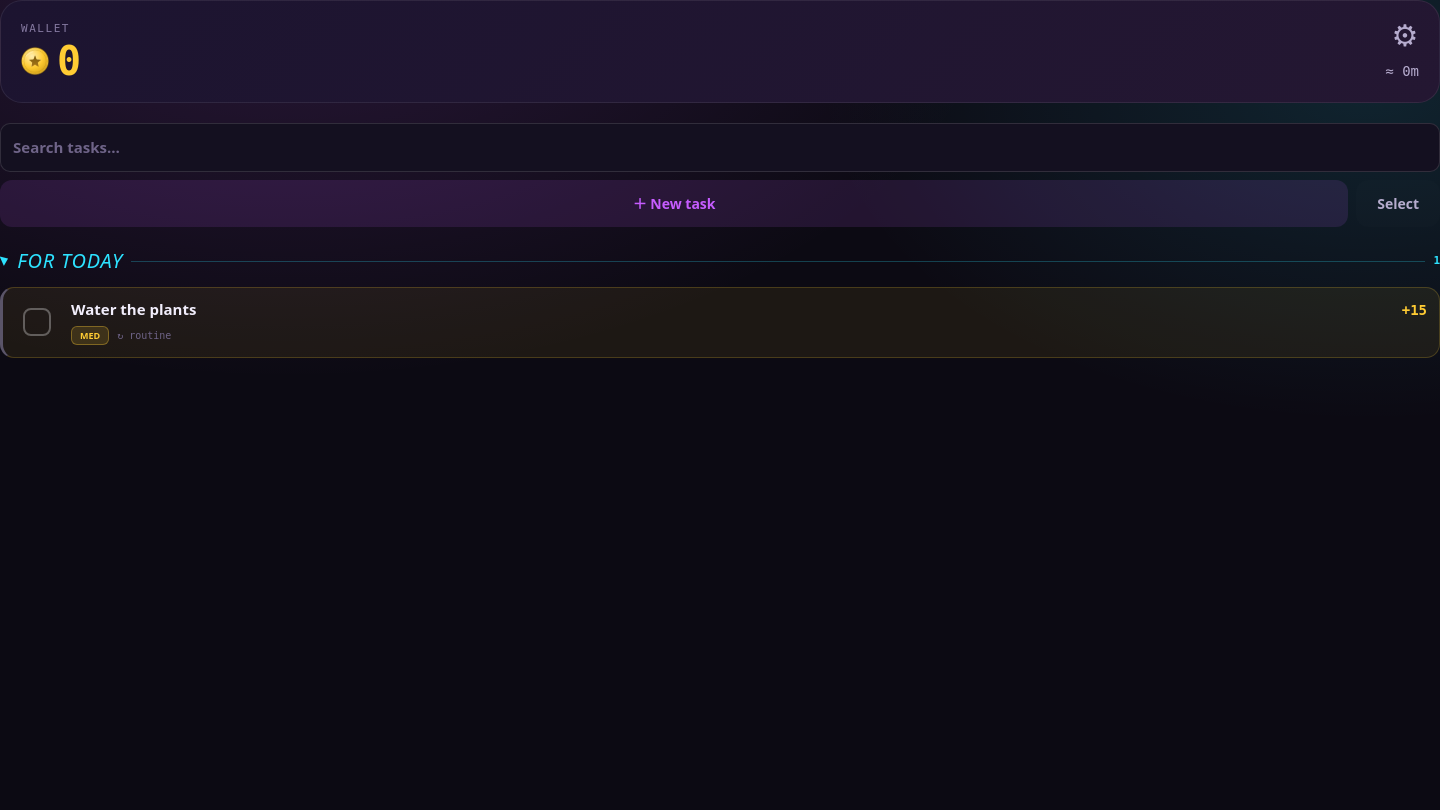
ticking a step from the sheet › shows the steps a task carries
The image size is (1440, 810).
Click the button "Water the plants".
click(134, 309)  # box [71, 300, 1390, 318]
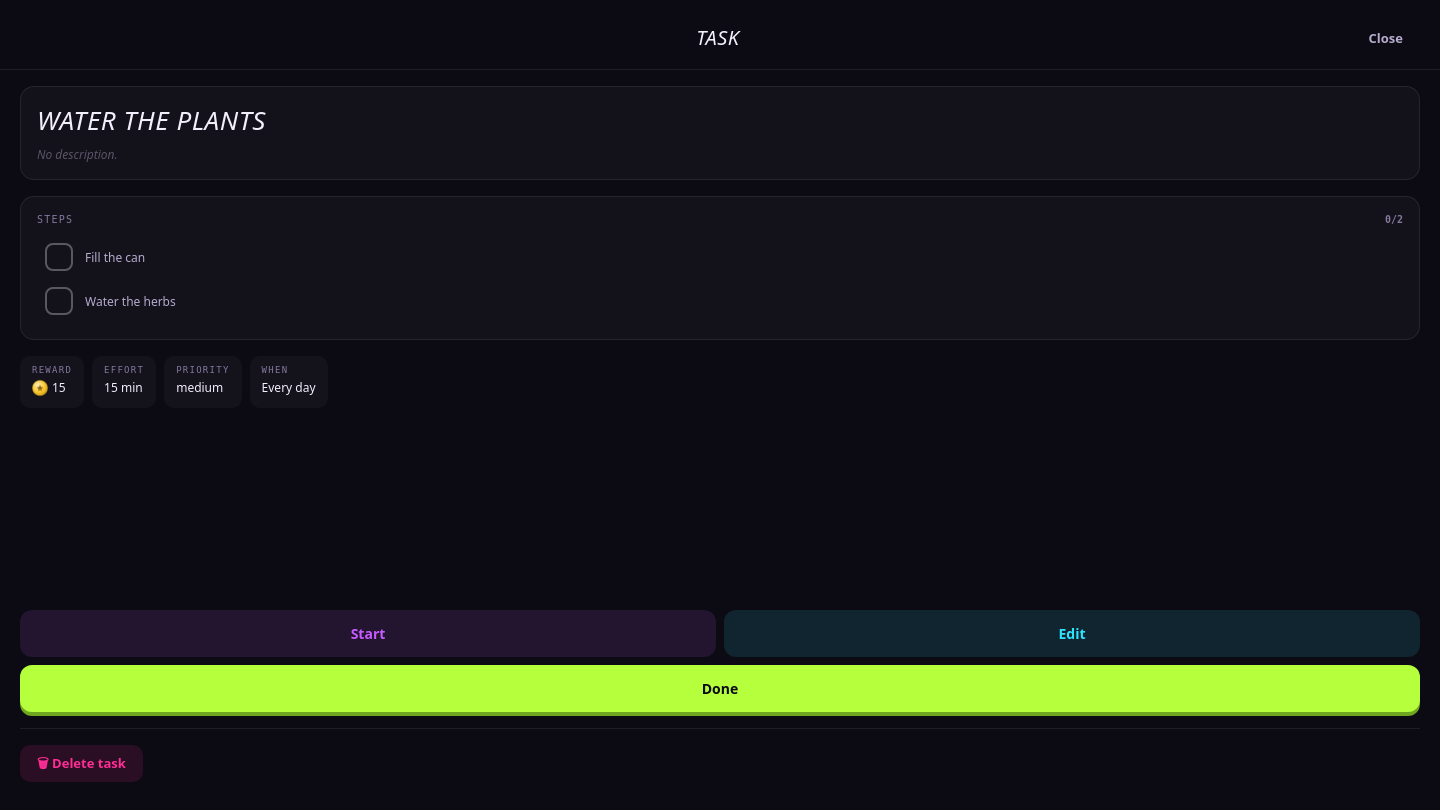
Check: the checkbox "Fill the can" is shown, box [85, 249, 145, 266]
Check: the checkbox "Water the herbs" is shown, box [85, 293, 176, 310]
Check: the text "0/2" is shown, box [1385, 213, 1403, 227]
